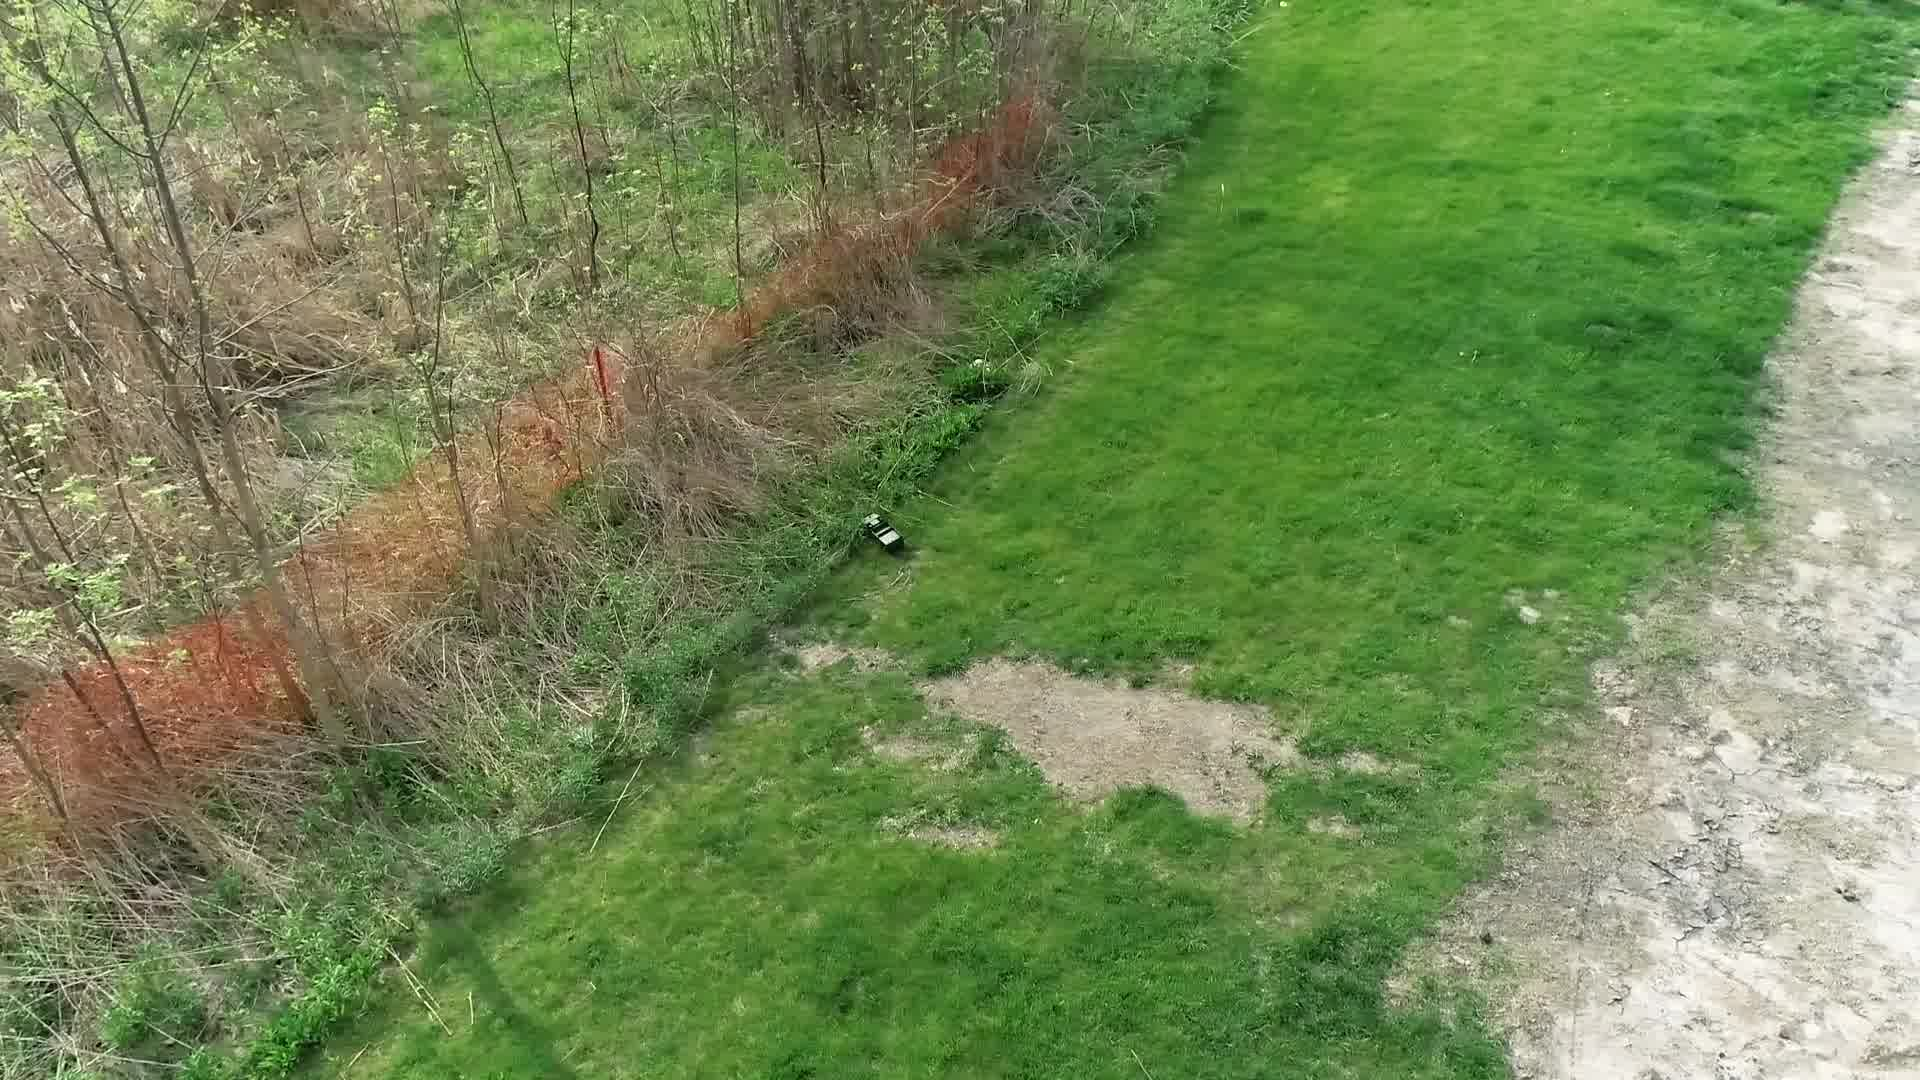transporter9: (858, 509, 907, 556)
